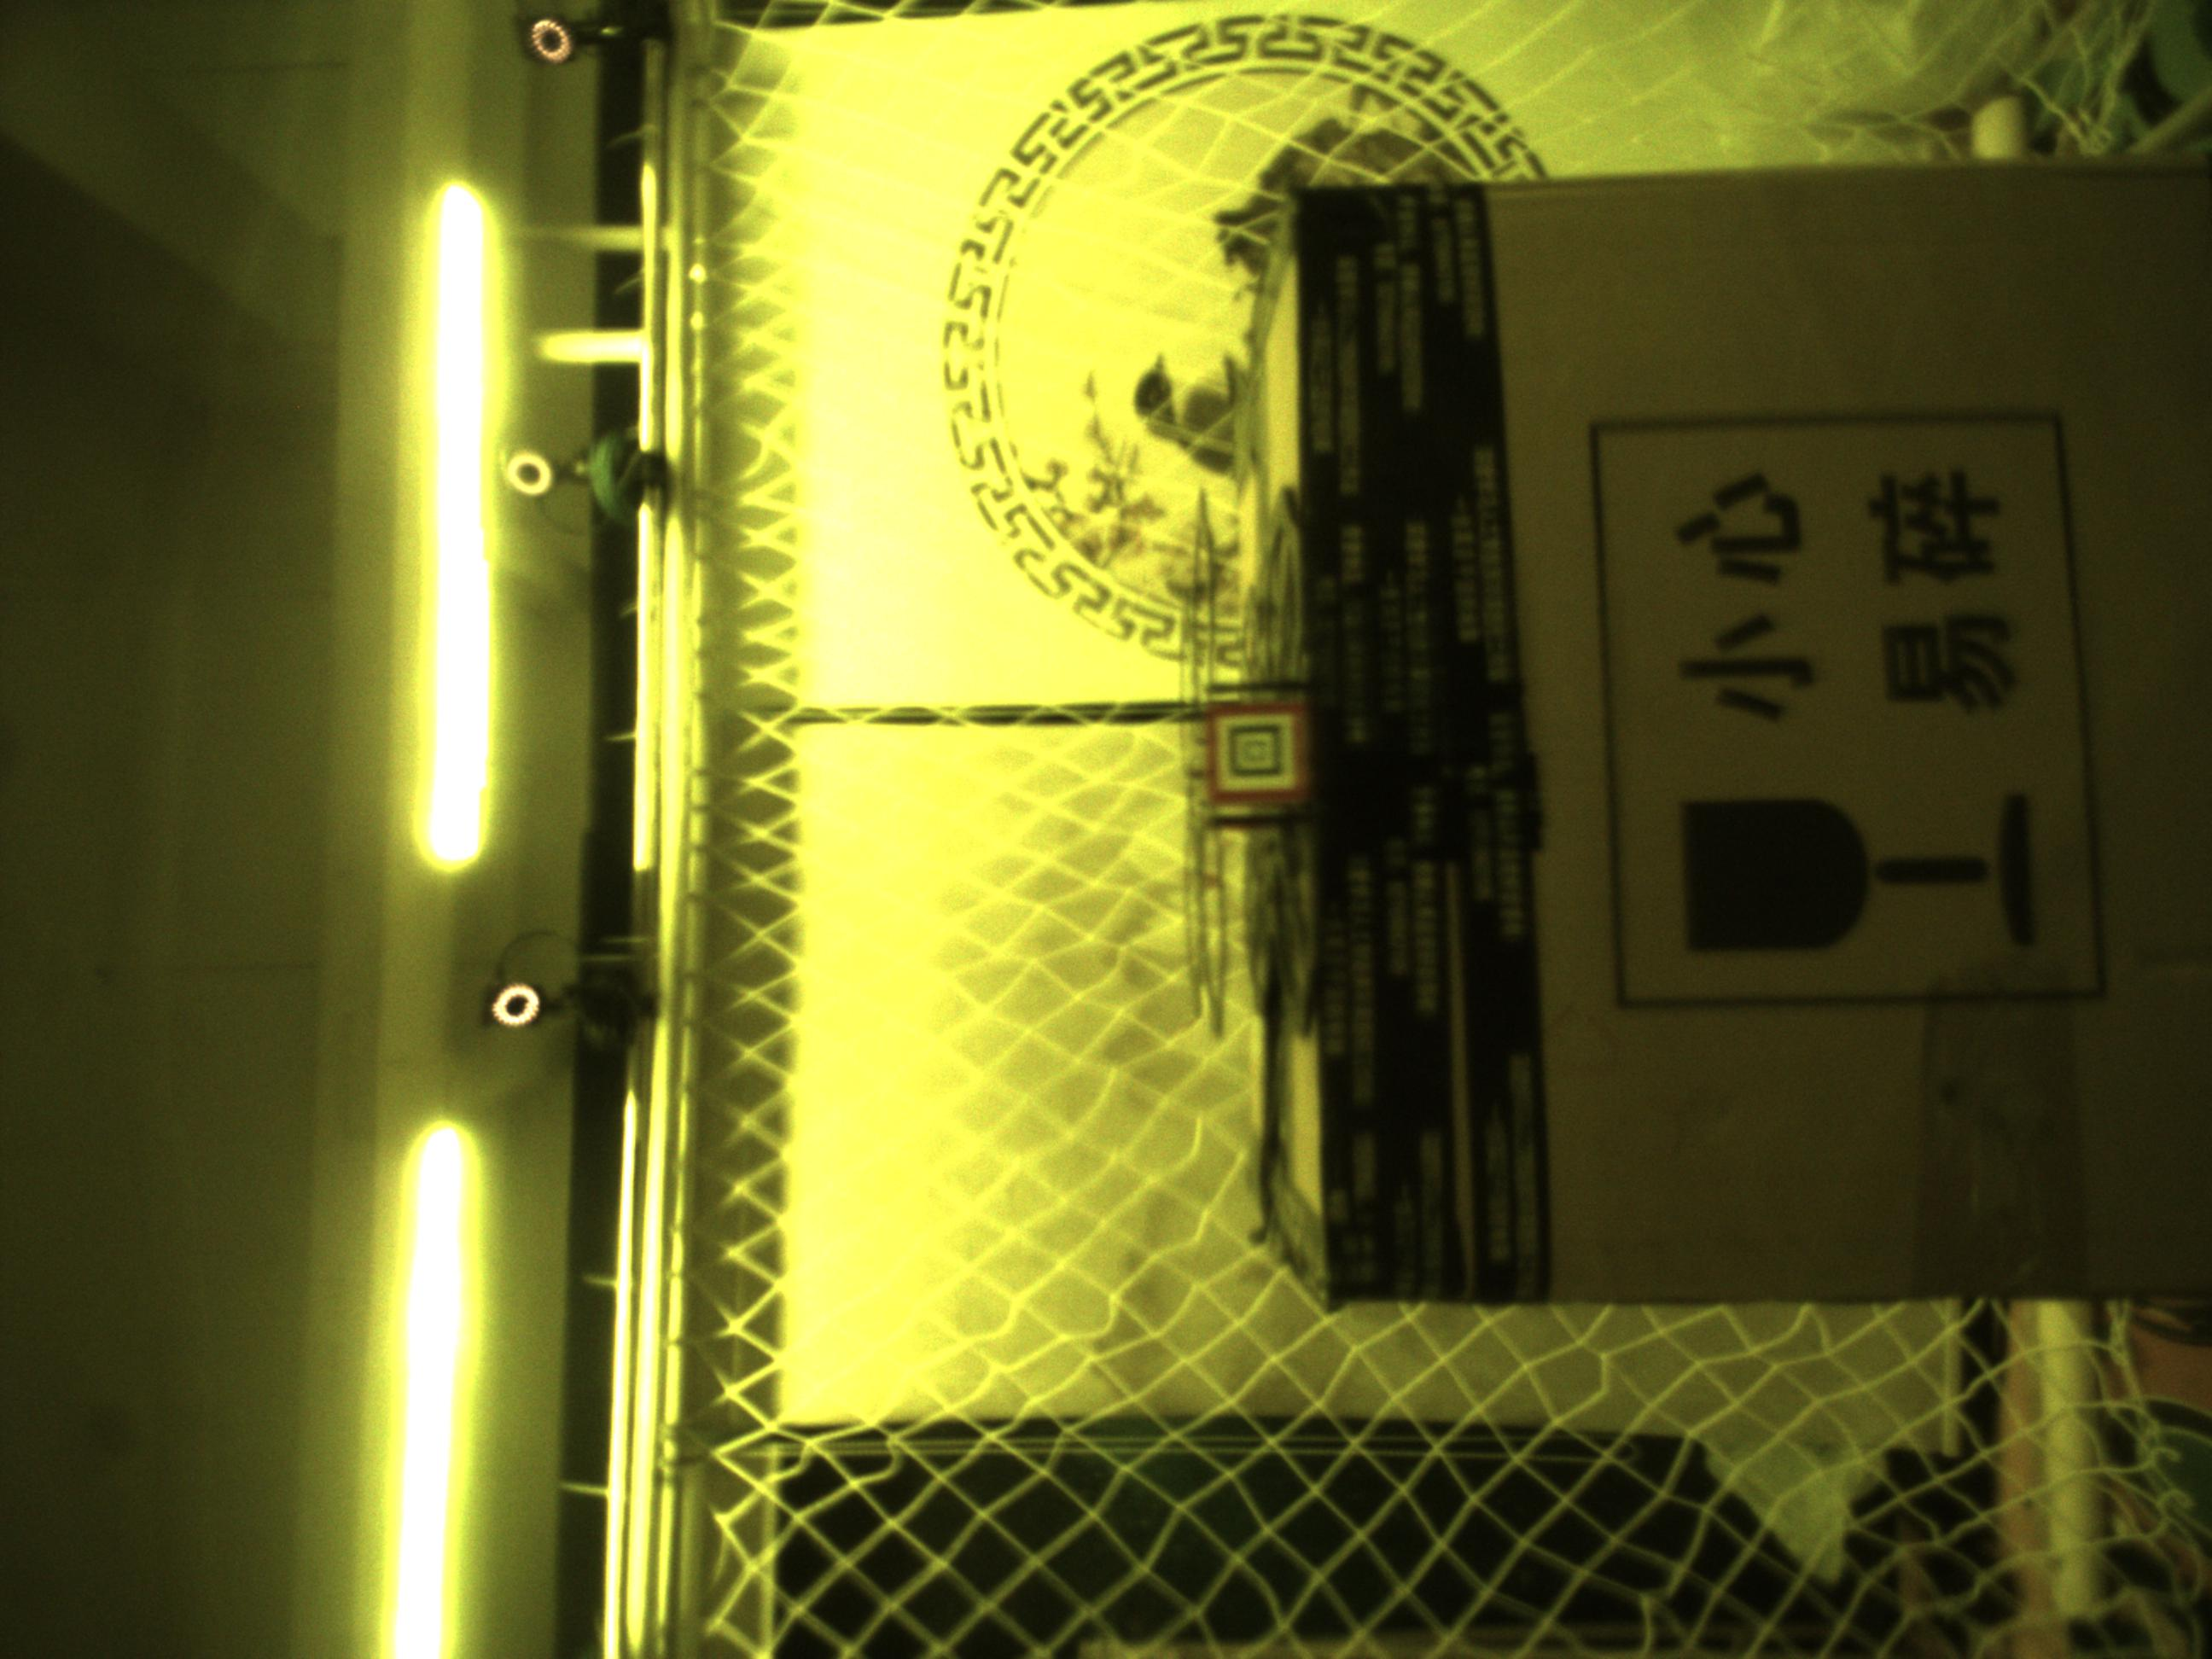outline: (1205, 702, 1308, 802)
